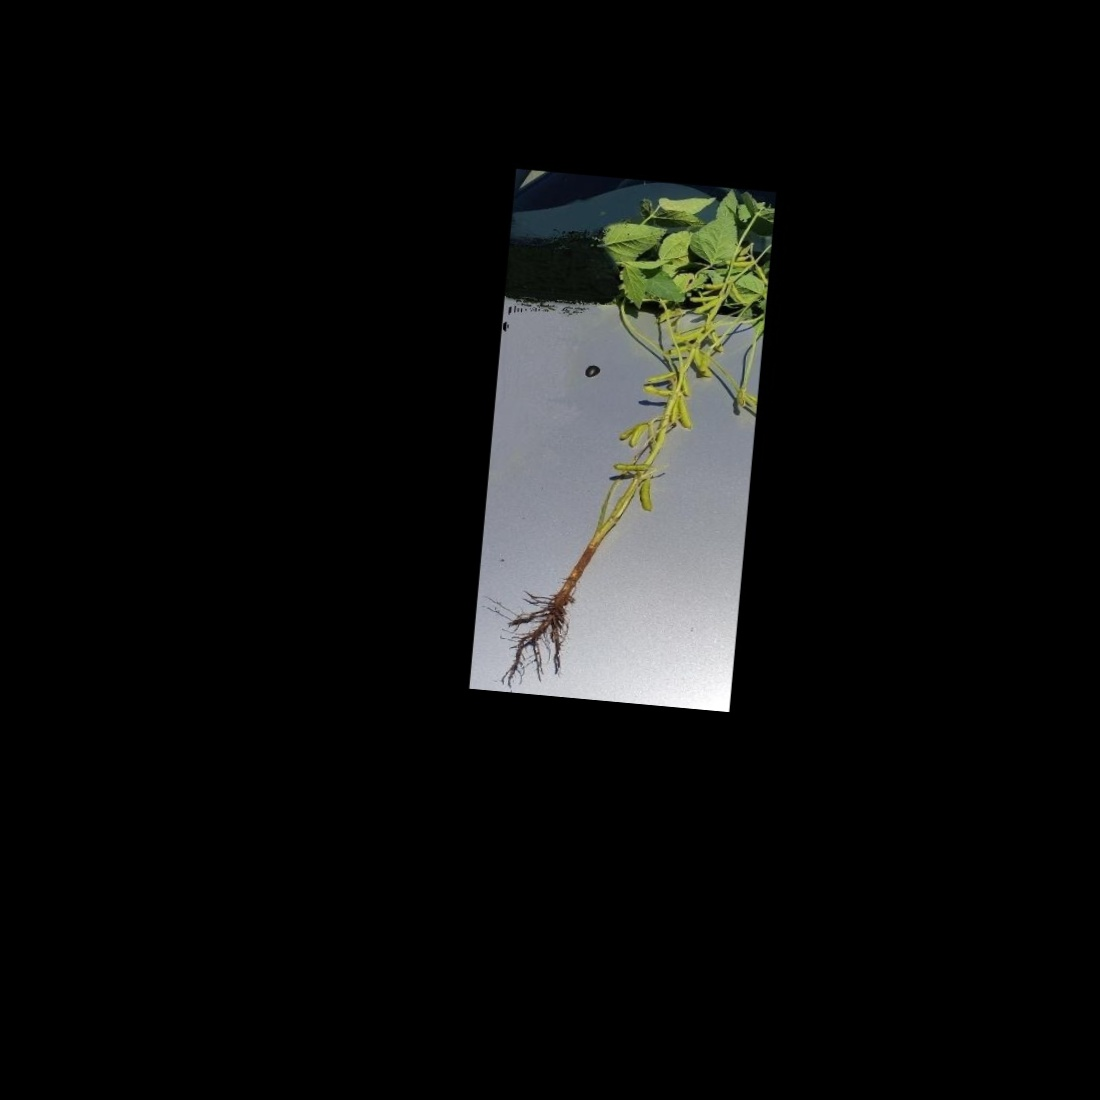pod: (624, 419, 652, 451), (674, 396, 697, 434), (635, 472, 656, 514), (640, 368, 685, 386), (689, 295, 719, 319), (639, 384, 681, 399), (685, 290, 721, 306), (608, 461, 651, 474)
soy: (500, 197, 766, 670)
